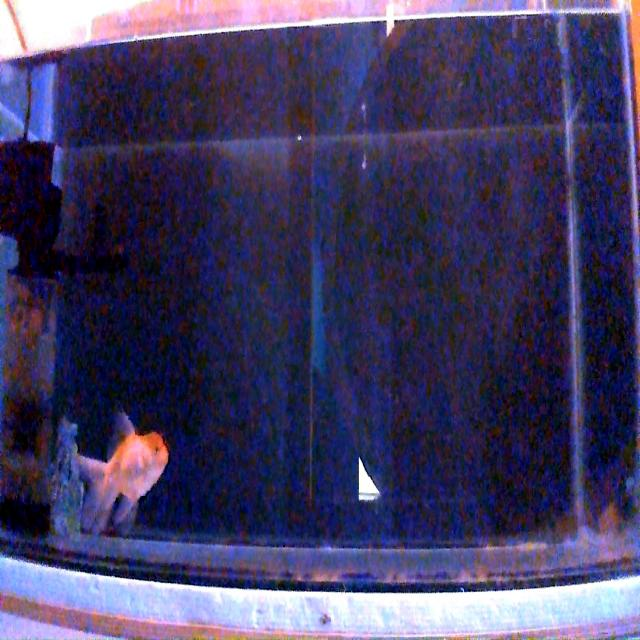fish: (76, 411, 169, 530)
